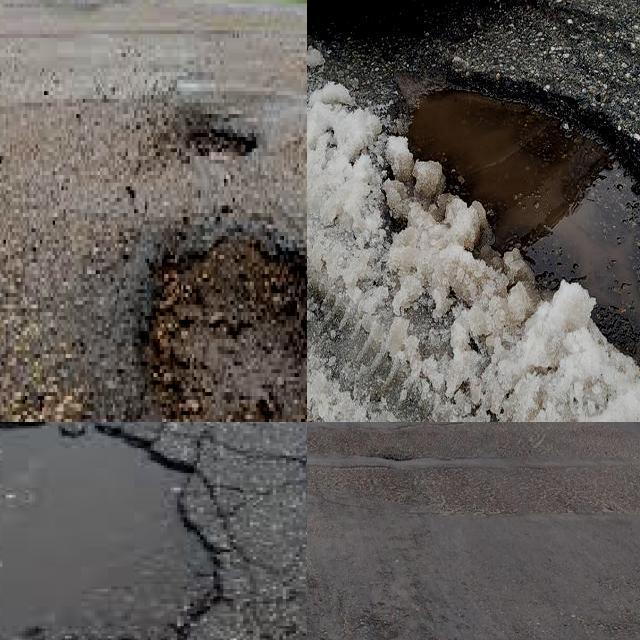Pothole: (409, 70, 640, 367), (0, 422, 210, 640), (151, 225, 307, 422)
